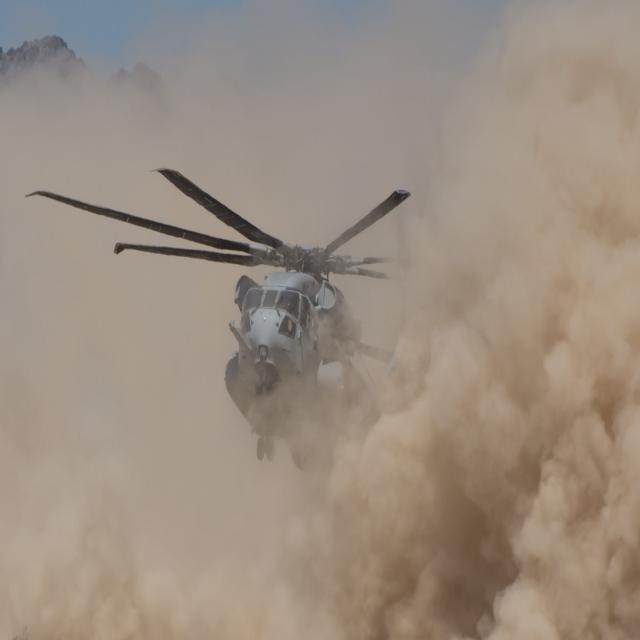helicopter: (37, 165, 406, 459)
